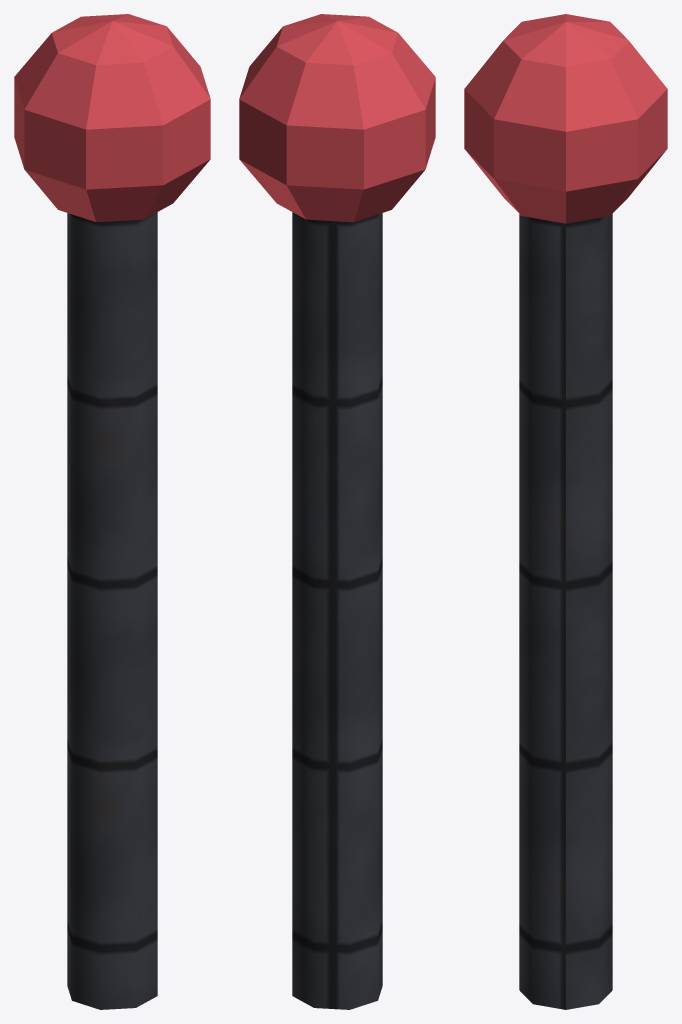
File: lever_arm.glb
3 views of the same model, side by side, from view 1: azimuth 30°, elevation 25°; view 2: azimuth 150°, elevation 25°; view 3: azimuth 270°, elevation 25° (orthographic).
Visible parts, largest first — view 1: lever_arm; view 2: lever_arm; view 3: lever_arm.
Boxes of the visible parts, bbox=[...] form: lever_arm: bbox=[14, 14, 210, 1009]; lever_arm: bbox=[239, 14, 435, 1009]; lever_arm: bbox=[464, 14, 667, 1009].
Bounding box in the file's own units: 0.1522 × 0.8 × 0.1522.
2 materials, 1 textured.
